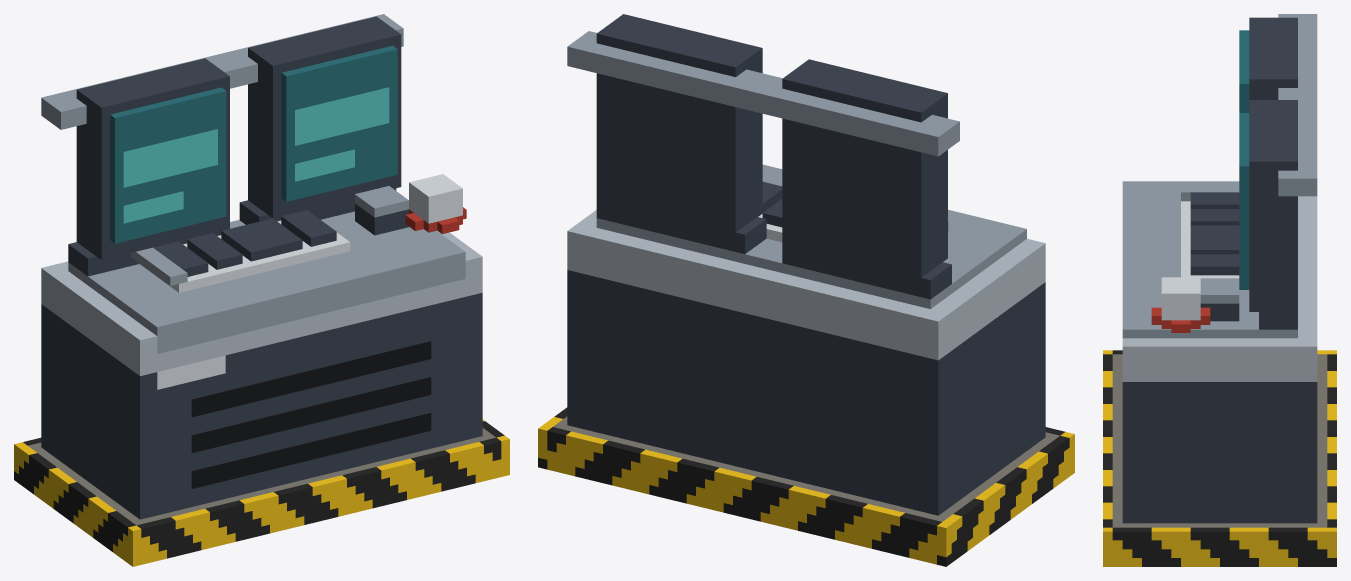
File: operator_console.obj
3 renders of one model, left to right at view 1: azimuth 30°, elevation 25°; view 2: azimuth 150°, elevation 25°; view 3: azimuth 270°, elevation 25°, orthographic. The views are drawn at different scales.
Visible parts, largest first — view 1: operator_console; view 2: operator_console; view 3: operator_console.
Boxes of the visible parts, box(x1,y1,x2,y2) form: operator_console: box(14, 14, 509, 566); operator_console: box(538, 14, 1074, 566); operator_console: box(1103, 14, 1336, 566).
Bounding box in the file's own units: 1.38 × 1.38 × 0.75.
